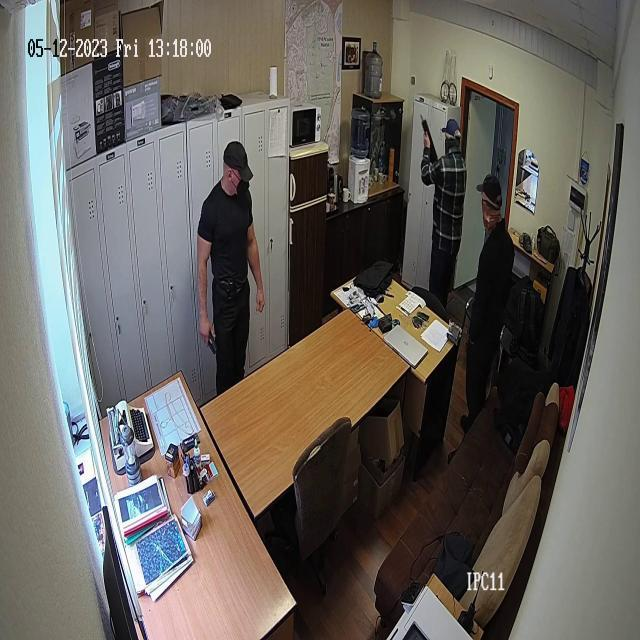pistol: (420, 113, 440, 161)
